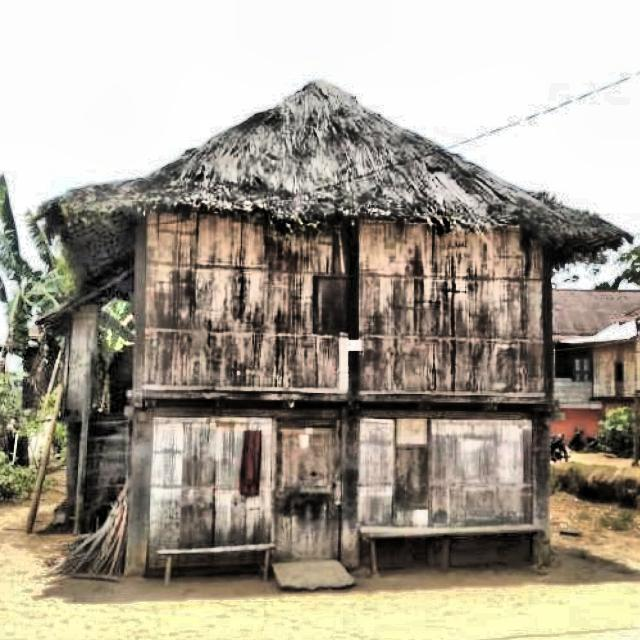door: (275, 419, 342, 560)
roof: (41, 81, 628, 293), (554, 290, 640, 336)
wall: (146, 211, 347, 392), (359, 220, 543, 393), (359, 418, 532, 526), (149, 419, 272, 551)
